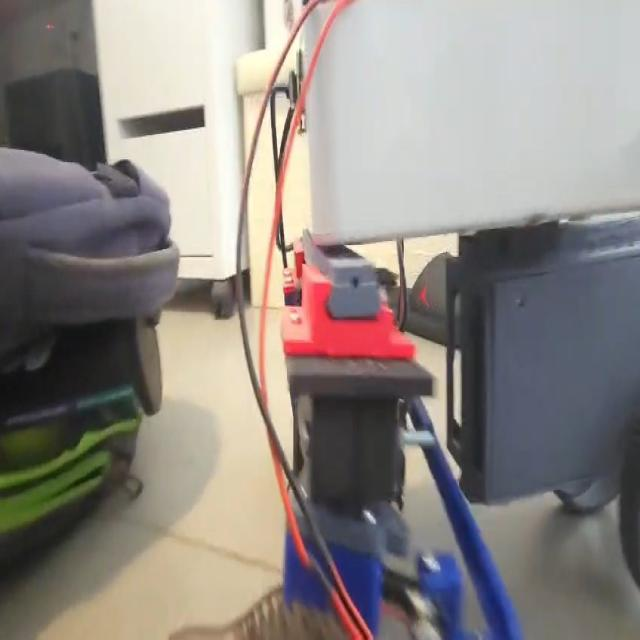Robot: (234, 0, 640, 639)
